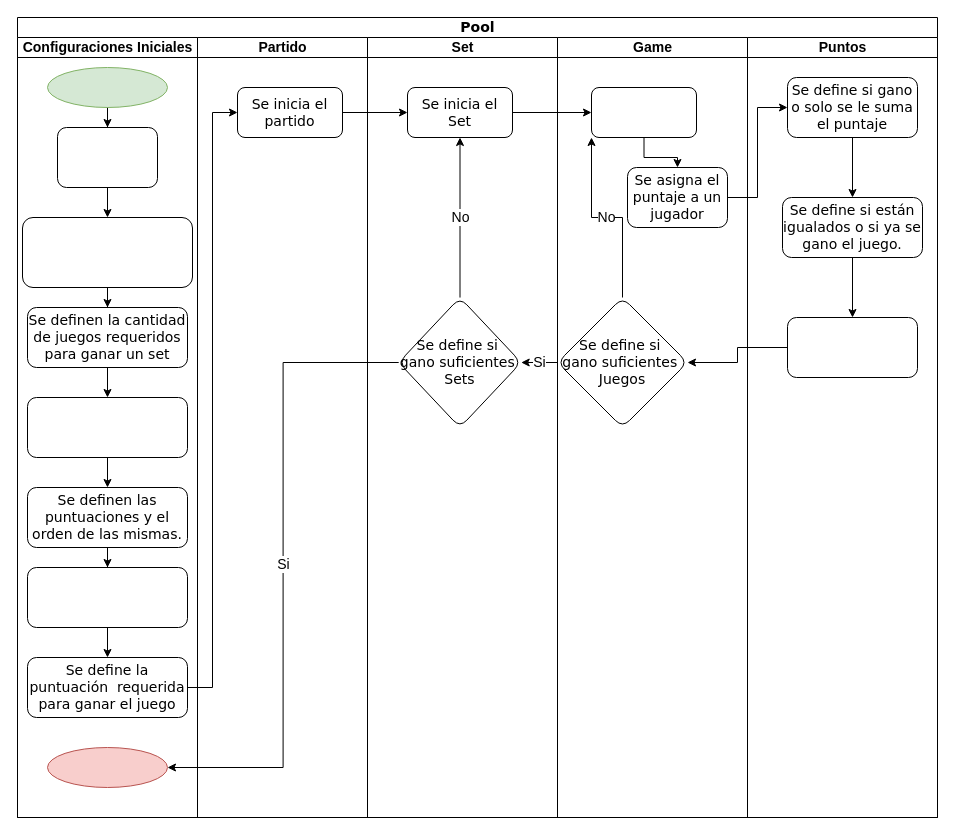
Some shapes in this 955 by 835 pixel diagram are drawn without their labels. Each missing label, with the centre of its shape:
"Fin" belongs at [107,767].
"Inicio" belongs at [107,87].
"Se crean el partido." belongs at [107,157].
"Se define la puntuación inicial del juego" belongs at [107,597].
"Se definen la cantidad de puntos requeridos para ganar un juego" belongs at [107,427].
"Se definen la cantidad de sets requeridos ara ganar un partido" belongs at [107,252].
"Se inicia el Juego" belongs at [643,112].
"Se retorna el ganador del juego" belongs at [852,347].
